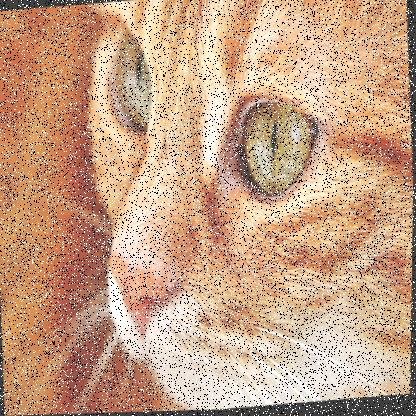cat: (55, 0, 415, 414)
